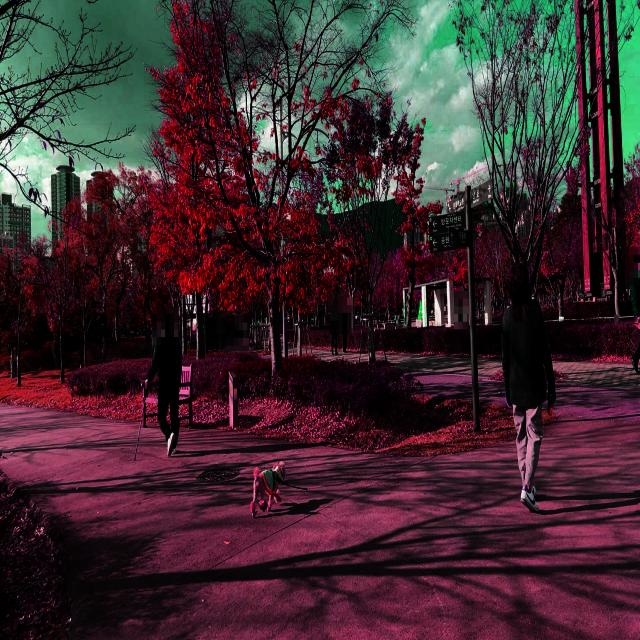Leashed_Dog: (250, 357, 527, 521)
